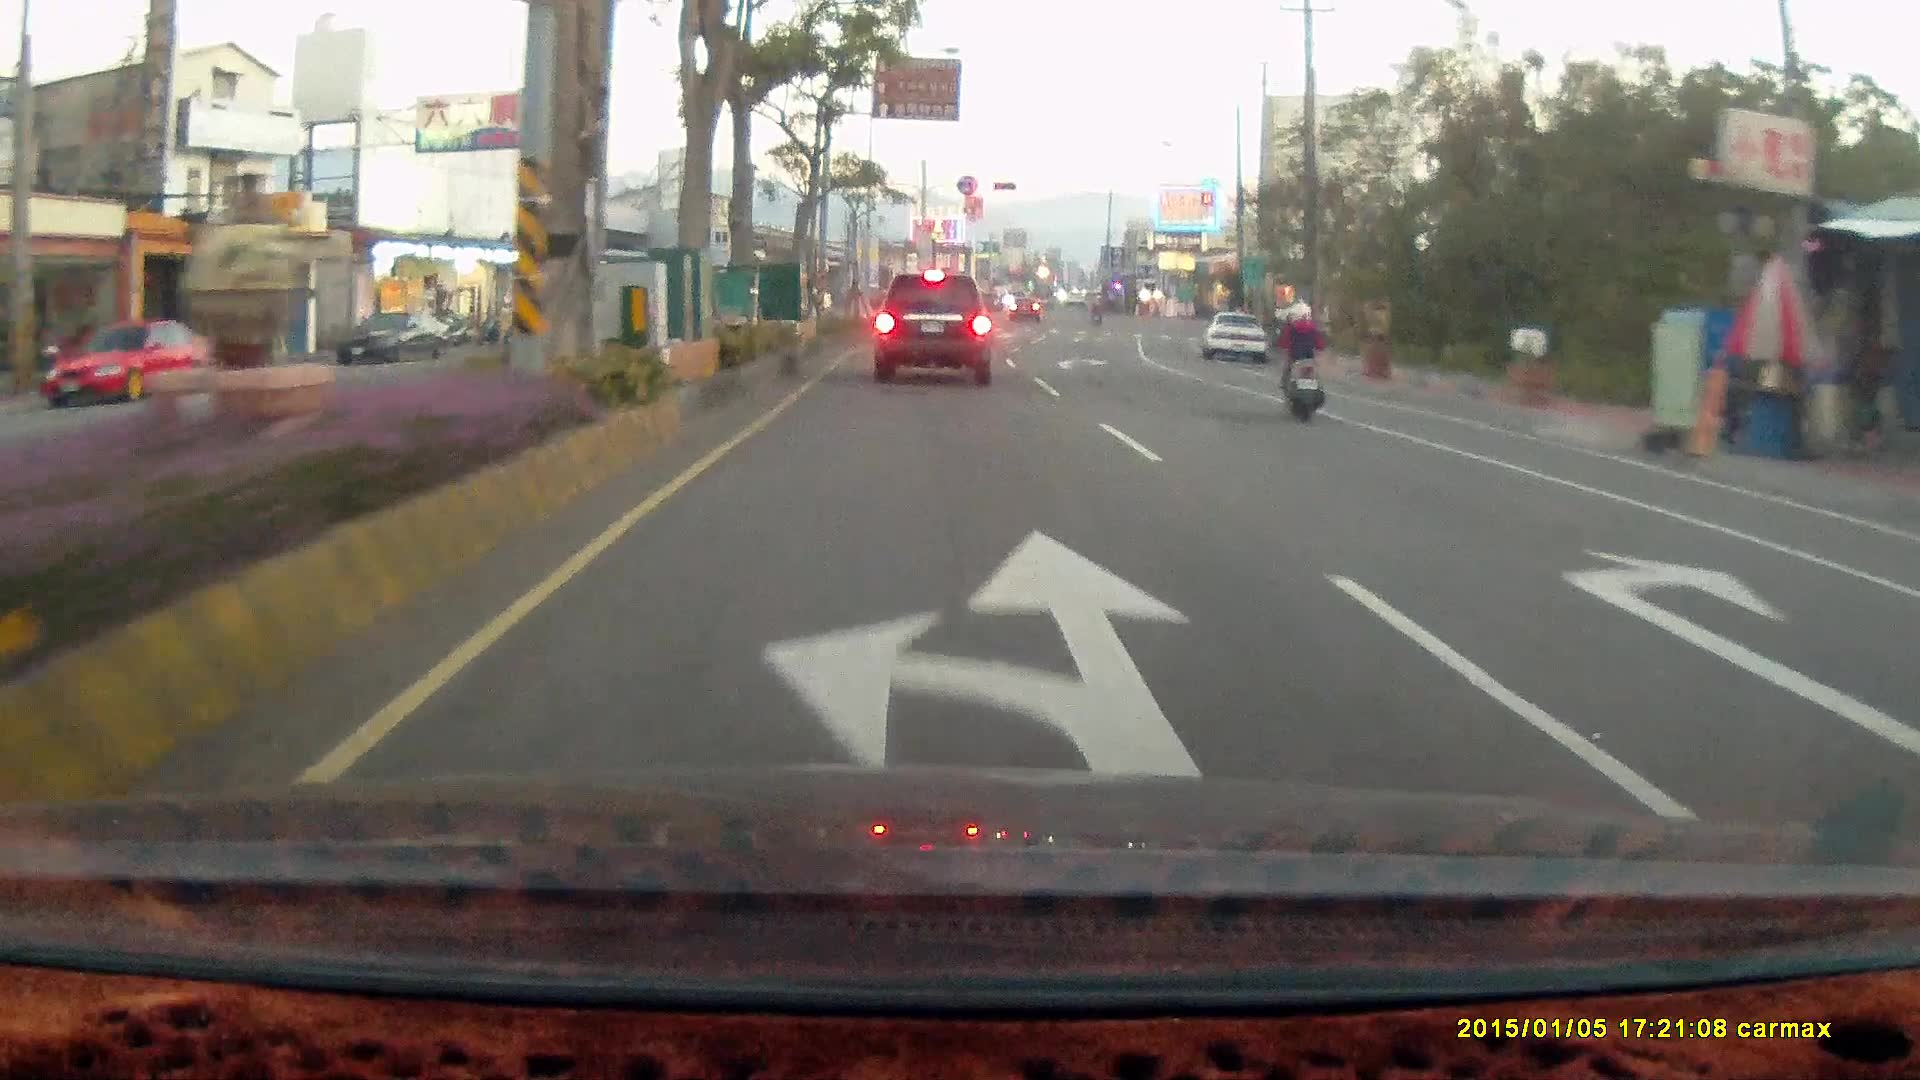rider: (1272, 296, 1327, 423)
vehicle: (38, 318, 214, 409), (873, 268, 990, 384), (1896, 493, 1920, 836), (1883, 528, 1920, 690), (342, 307, 452, 361), (1202, 312, 1270, 365), (1202, 310, 1270, 362)
